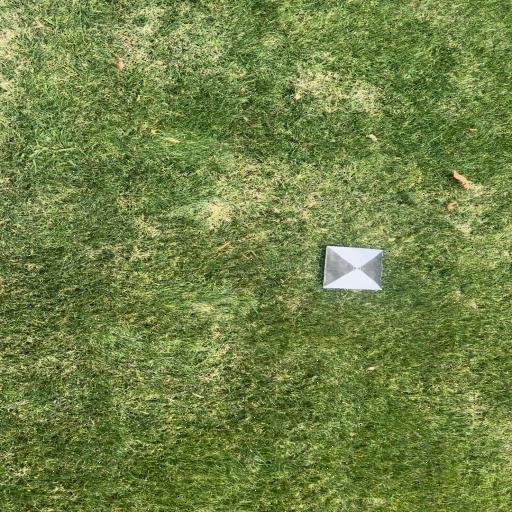target: (324, 246, 382, 289)
